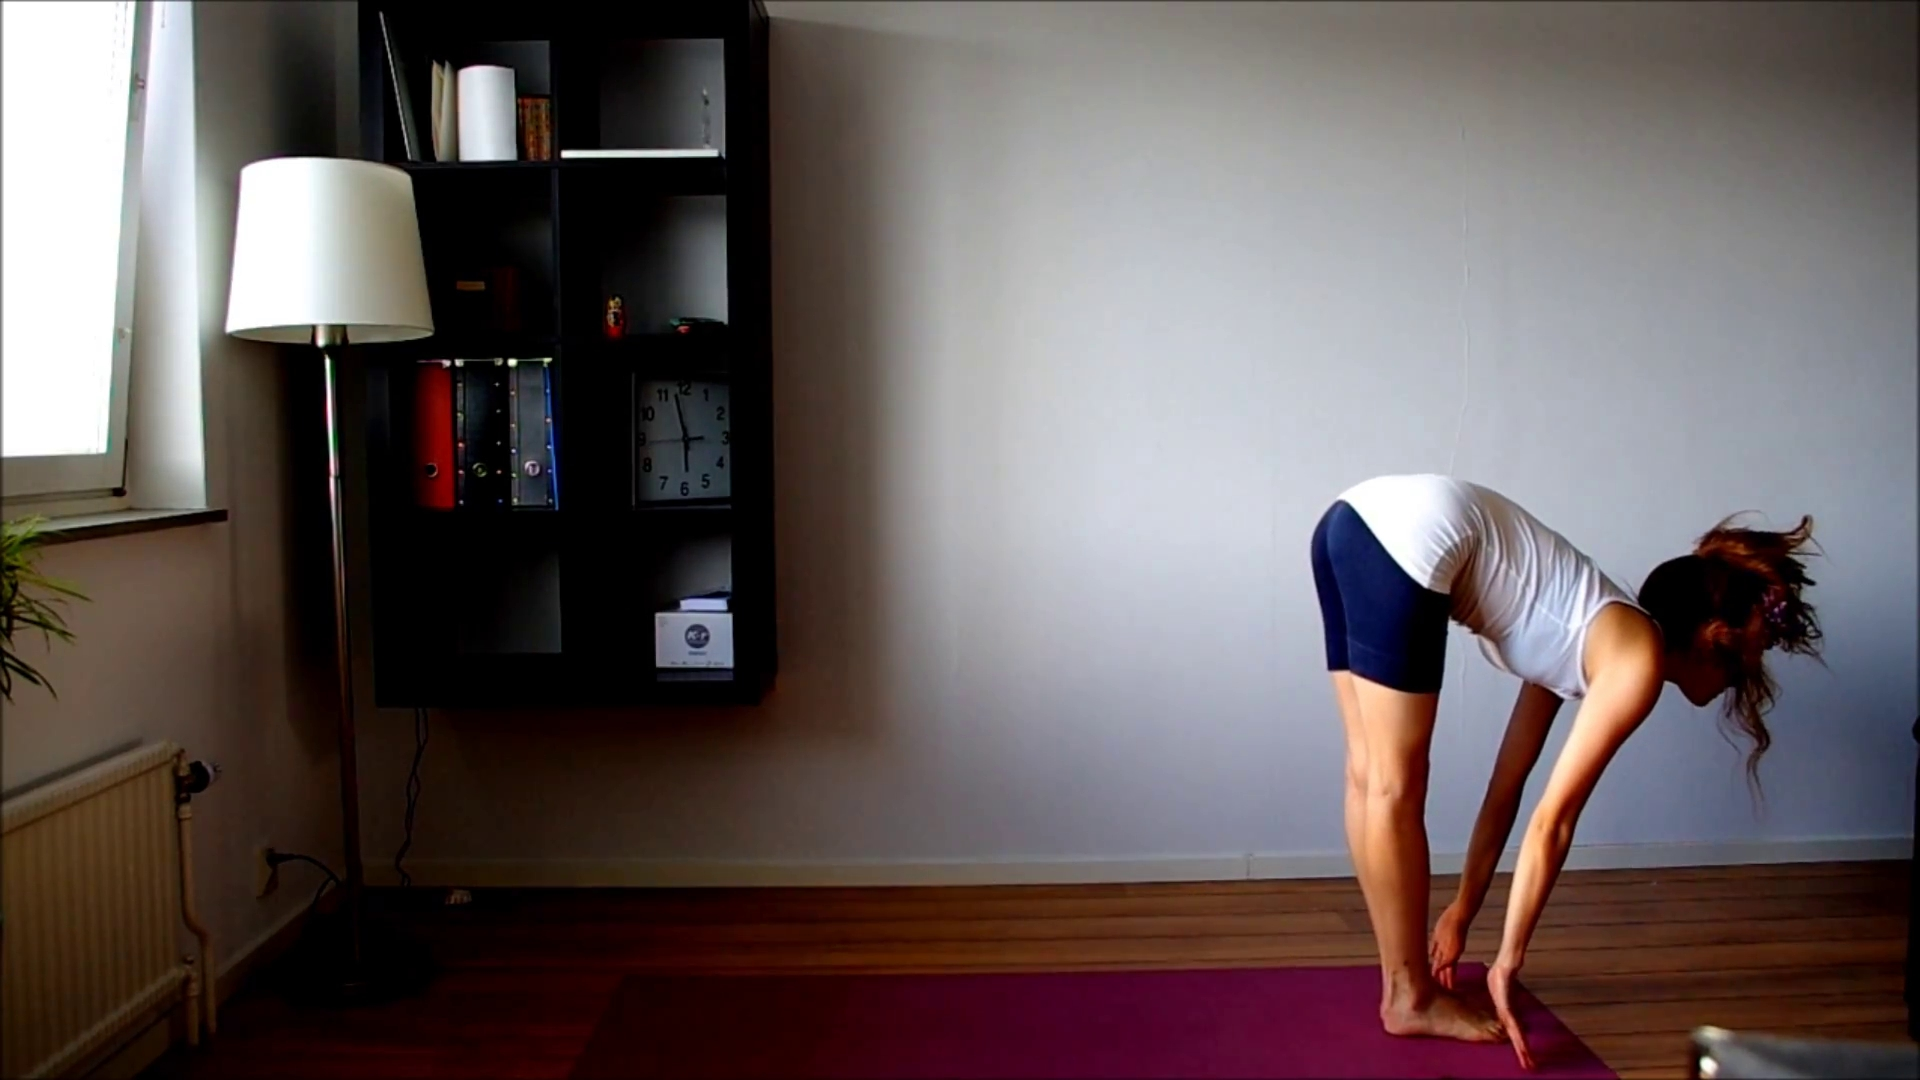left-lower-arm: (1503, 817, 1553, 978)
left-lower-leg: (1375, 787, 1425, 992)
left-upper-arm: (1567, 657, 1617, 830)
left-upper-leg: (1365, 524, 1415, 788)
right-lower-arm: (1516, 622, 1566, 784)
right-lower-leg: (1339, 527, 1389, 783)
right-upper-arm: (1458, 773, 1508, 926)
right-upper-leg: (1360, 781, 1410, 979)
